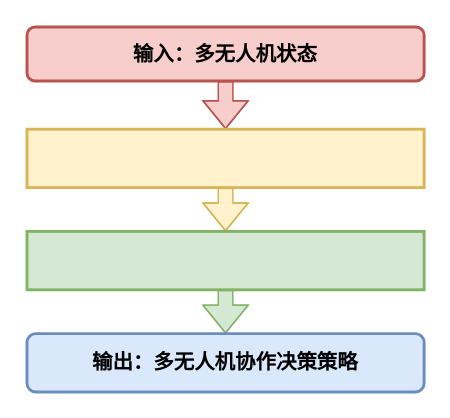
The diagram is 450 pixels wide and 418 high, and some of its shapes have lost their labels. Here are the shapes that lost their labels. From the top down, the centre of each, then its label:
pixel 225 157: 图神经网络信息建模
pixel 225 260: 多智能体强化学习算法
